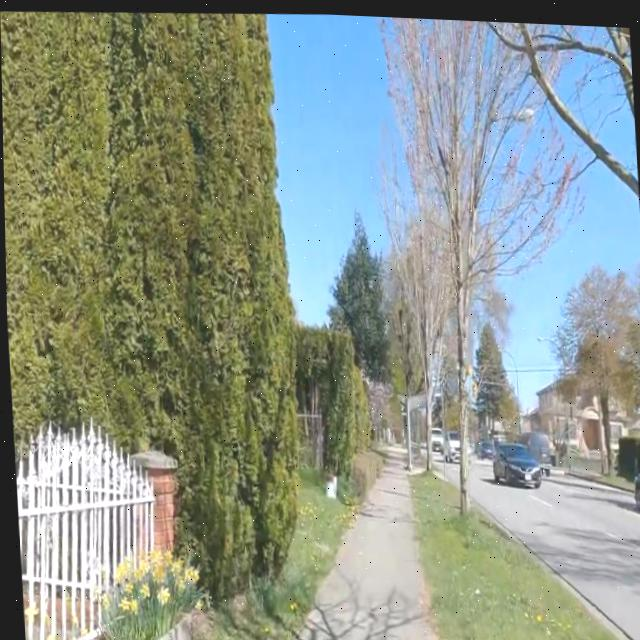Automobile: (490, 437, 538, 482), (517, 426, 550, 470), (440, 427, 457, 457), (632, 463, 640, 503)
Obstacle: (0, 11, 363, 599), (397, 14, 485, 508), (408, 471, 623, 640), (12, 421, 151, 640), (192, 467, 352, 640), (349, 446, 385, 499), (154, 613, 186, 640), (402, 392, 407, 465)
Road: (469, 457, 640, 640)
Sidewalk: (291, 439, 427, 640)
